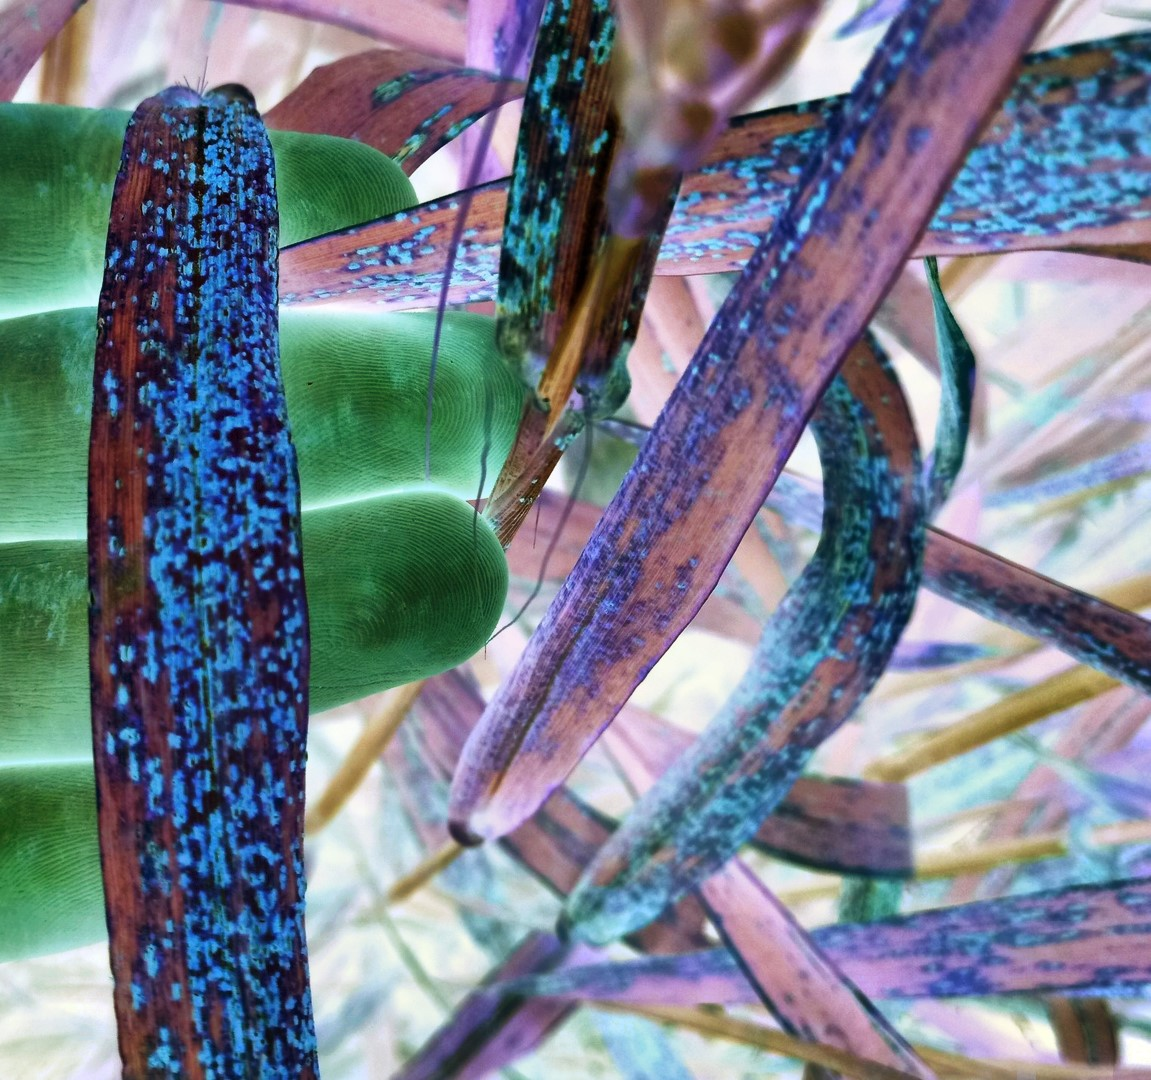Leaf Rust: (84, 133, 337, 1054)
